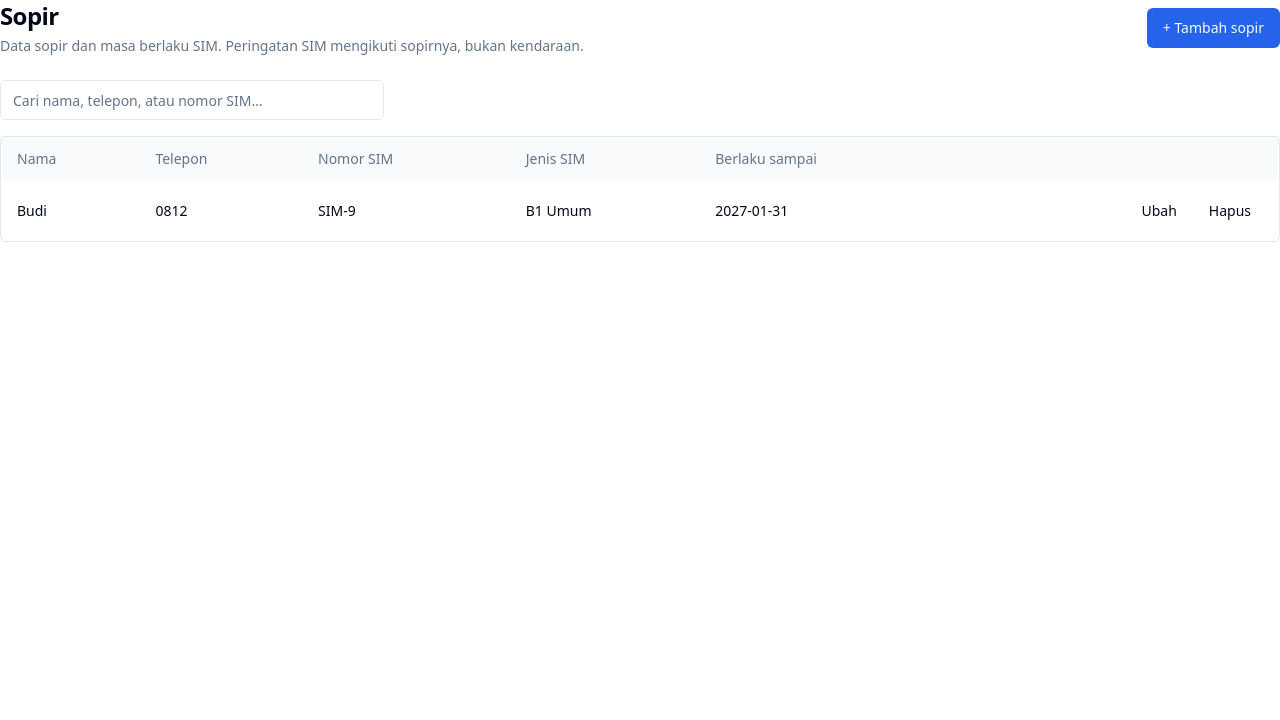
it: FleetDriversPage › the create/edit branch › seeds the edit form with the driver that was clicked
The image size is (1280, 720).
Click the button "Ubah".
click(1159, 211)  # box [1129,193,1189,229]
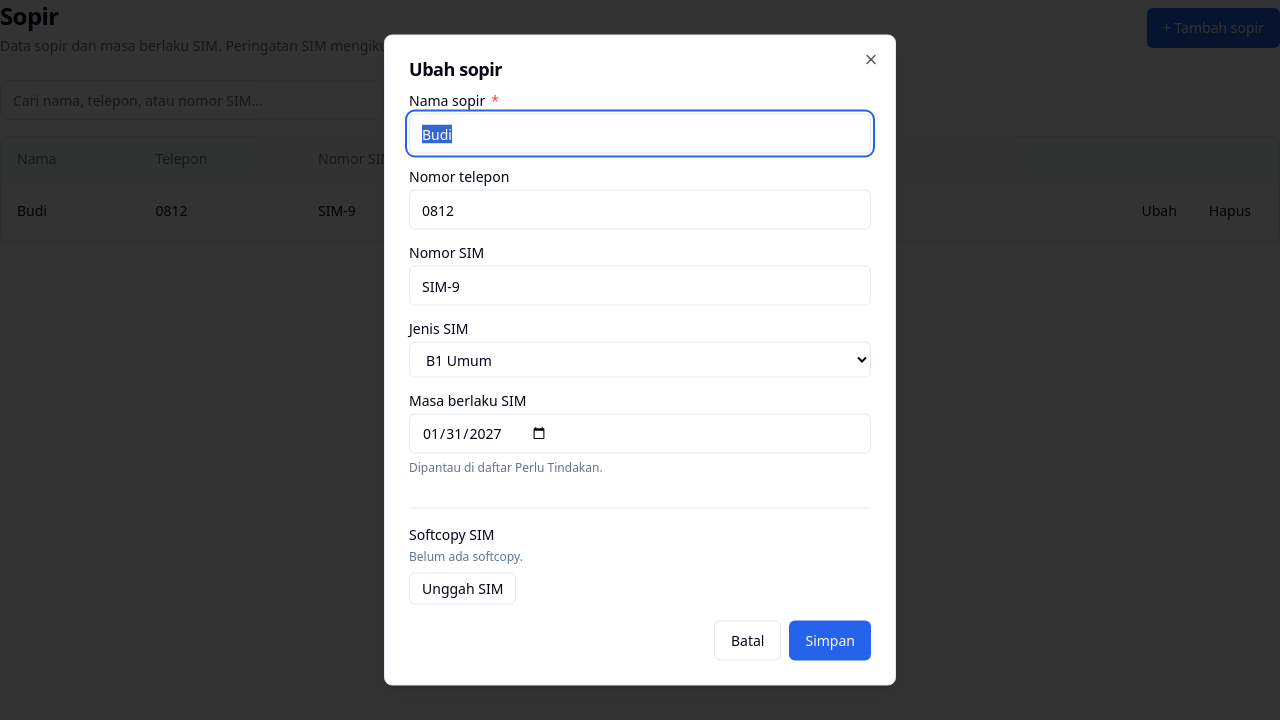
Expected: the field labelled "Nama sopir *" holds "Budi", [409,114,871,154]
Expected: the field labelled "Nomor telepon" holds "0812", [409,190,871,230]
Expected: the field labelled "Nomor SIM" holds "SIM-9", [409,266,871,306]
